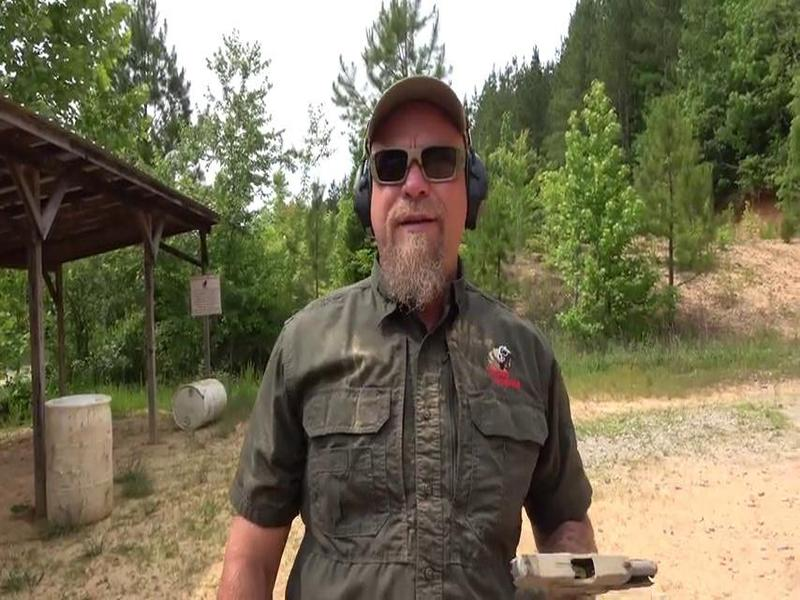Pistola: (478, 494, 672, 600)
